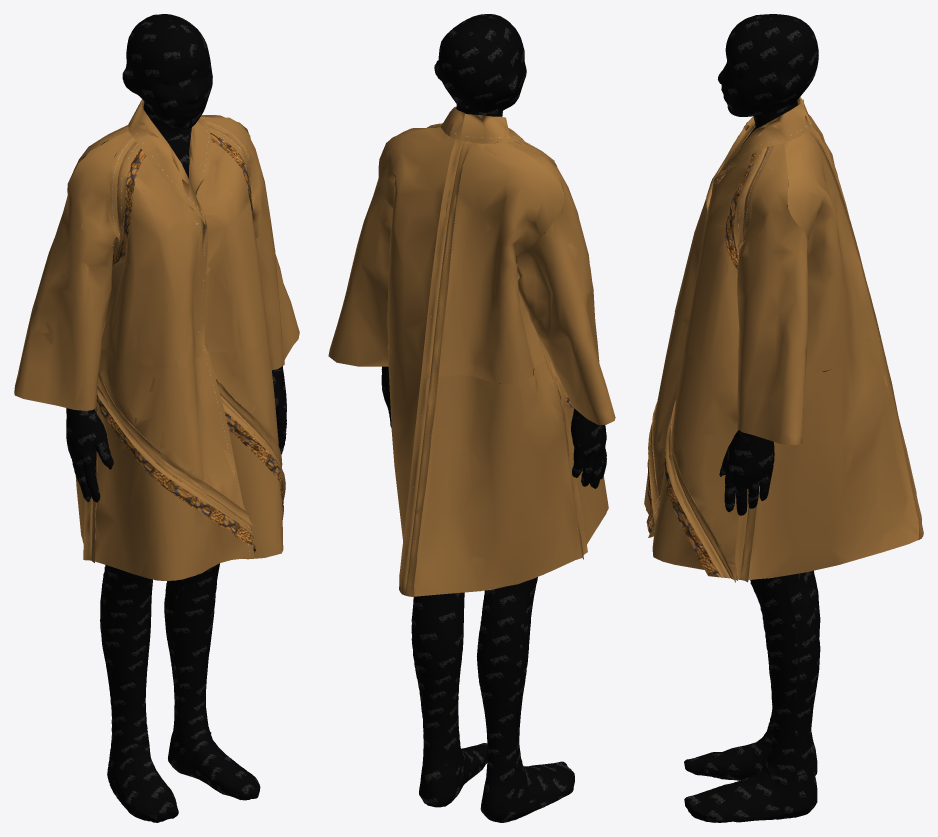
Rendered from PRADA with HD Women Mannequin for AR.glb.
3 renders of one model, left to right at view 1: azimuth 30°, elevation 25°; view 2: azimuth 150°, elevation 25°; view 3: azimuth 270°, elevation 25°, orthographic.
Visible parts, largest first — view 1: PRADA with HD Women Mannequin, Woman Bodysuit AR; view 2: PRADA with HD Women Mannequin, Woman Bodysuit AR; view 3: PRADA with HD Women Mannequin, Woman Bodysuit AR.
Part boxes in pixels (x1,y1,x2,y2): PRADA with HD Women Mannequin: [14, 99, 299, 580]; Woman Bodysuit AR: [66, 14, 286, 822]; PRADA with HD Women Mannequin: [328, 106, 615, 596]; Woman Bodysuit AR: [381, 14, 606, 822]; PRADA with HD Women Mannequin: [644, 97, 923, 582]; Woman Bodysuit AR: [684, 14, 830, 822].
Bounding box in the file's own units: 0.6815 × 1.77 × 0.5767.
Materials: 6 (6 with a texture image).
